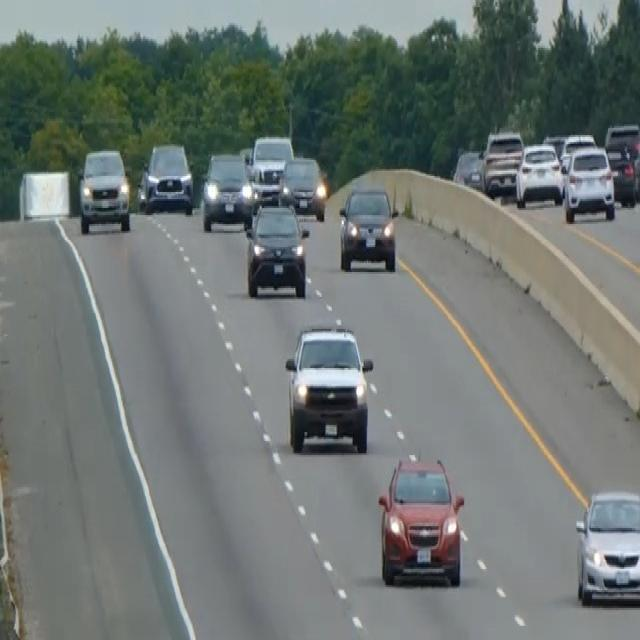car: (377, 452, 465, 586), (574, 487, 639, 606), (338, 183, 398, 272), (201, 149, 253, 231), (137, 141, 194, 215), (562, 144, 615, 222), (246, 133, 294, 204), (515, 140, 564, 208), (278, 153, 326, 220), (480, 128, 524, 196), (606, 140, 637, 204), (560, 132, 596, 172), (452, 148, 484, 190), (542, 132, 566, 164), (632, 132, 639, 202)
jeep: (283, 320, 374, 455), (243, 201, 310, 299), (76, 144, 131, 235)
